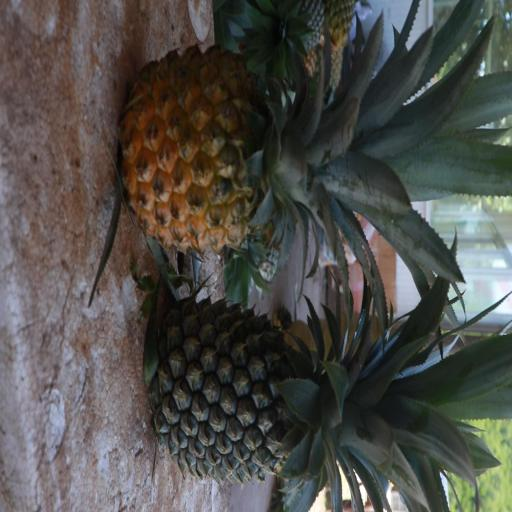Pineapple - v8 v1: (129, 46, 443, 248)
